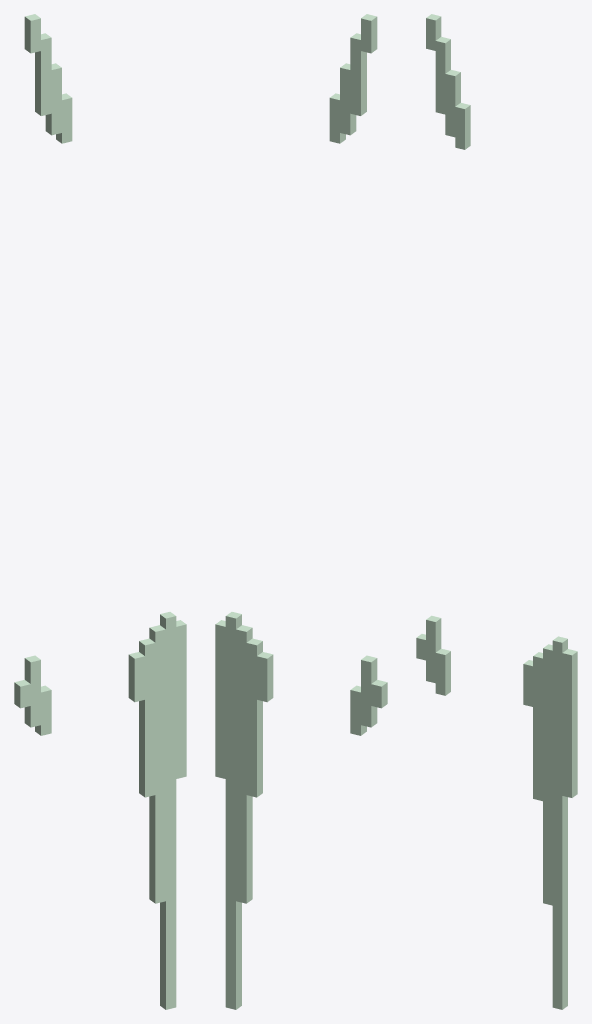
The model's file is Fight_720_2_26_fx.obj.
The picture shows the model from 3 angles, left to right: view 1: azimuth 30°, elevation 25°; view 2: azimuth 150°, elevation 25°; view 3: azimuth 330°, elevation 25°; orthographic projection. The views are drawn at different scales.
Bounding box in the file's own units: 1.6 × 9.4 × 0.1.
